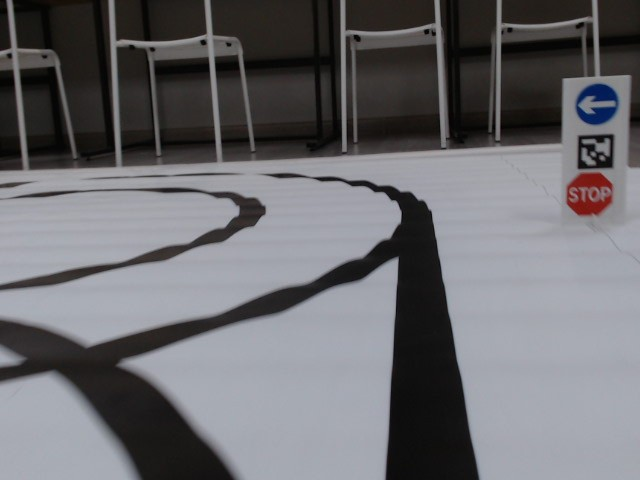Stop: (568, 173, 613, 213)
